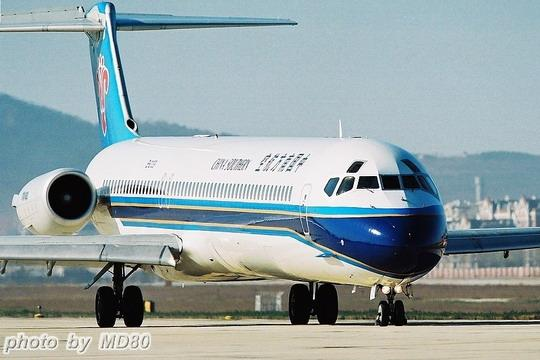airplane: (35, 3, 469, 324)
